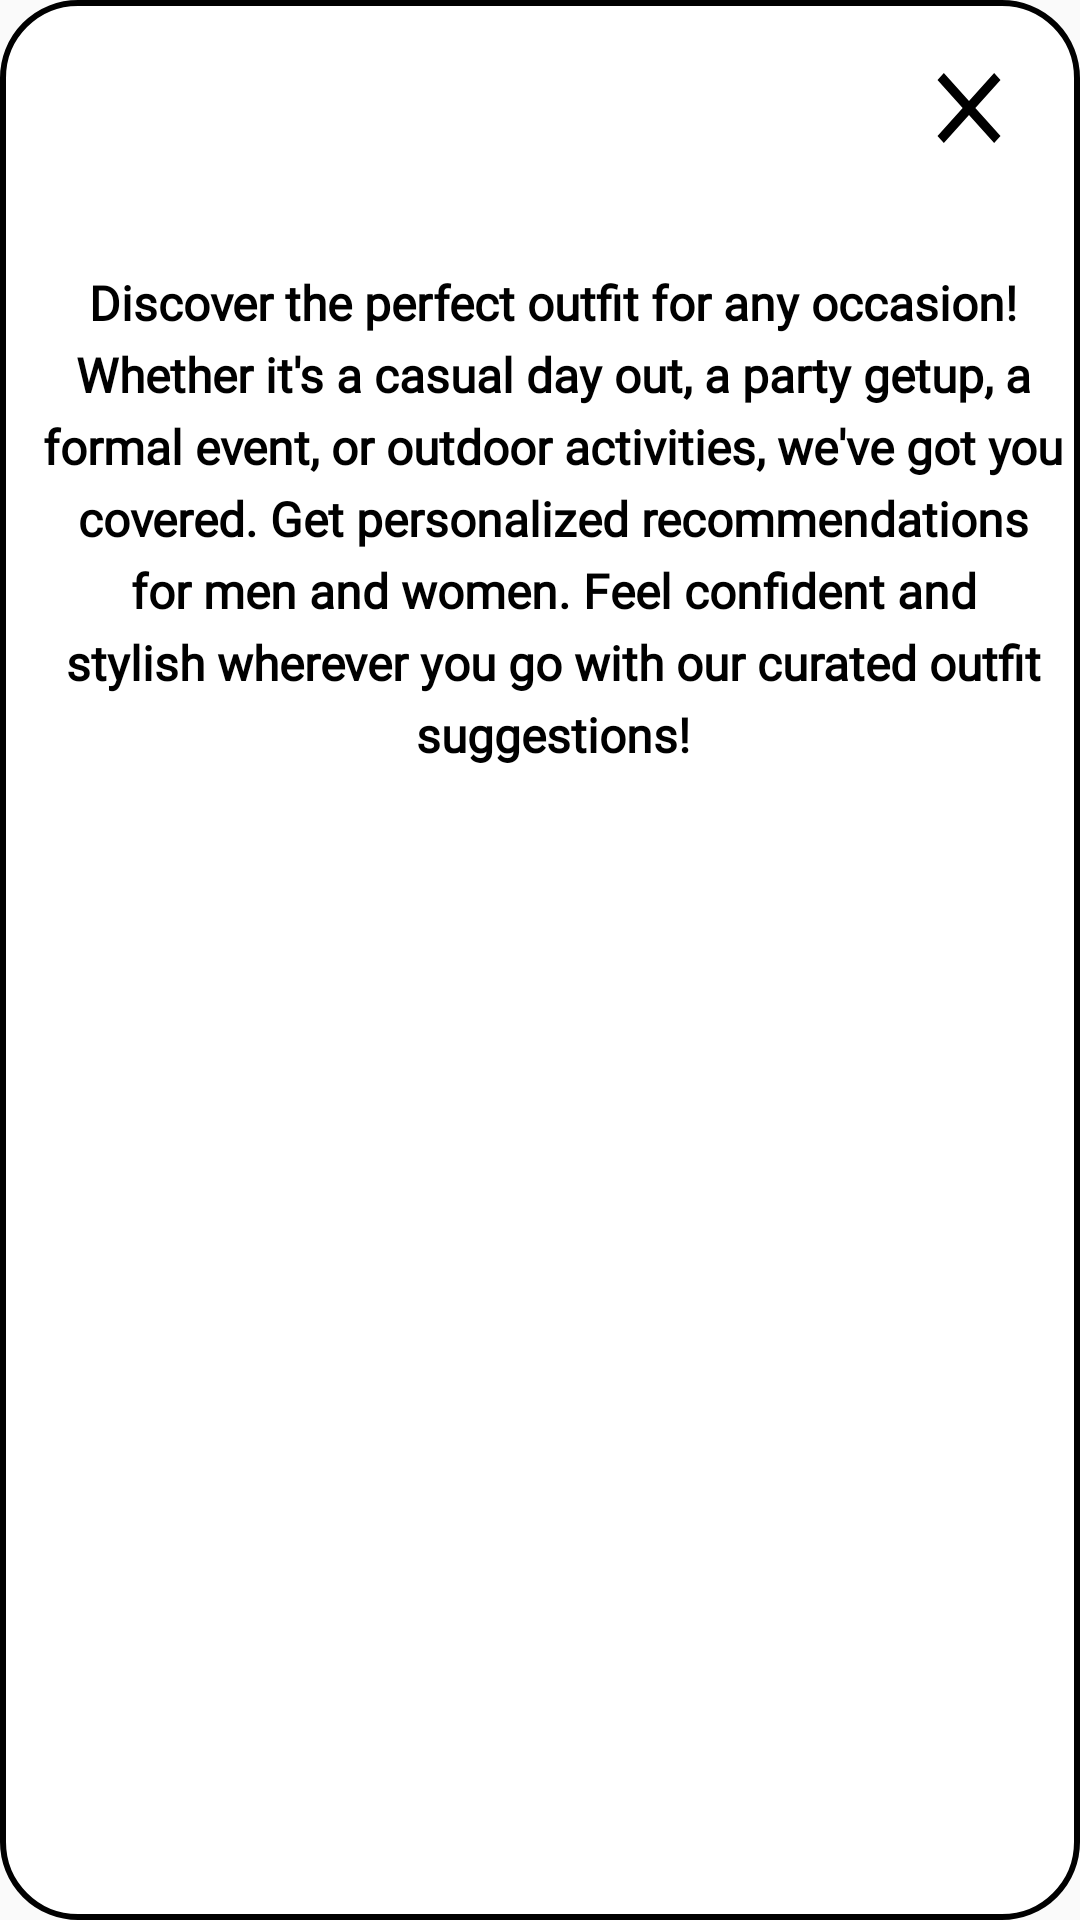

Where icons sit on this 1080 x 1920 app screen, as (x1, y1, x2, y2):
close: (937, 73, 1001, 143)
